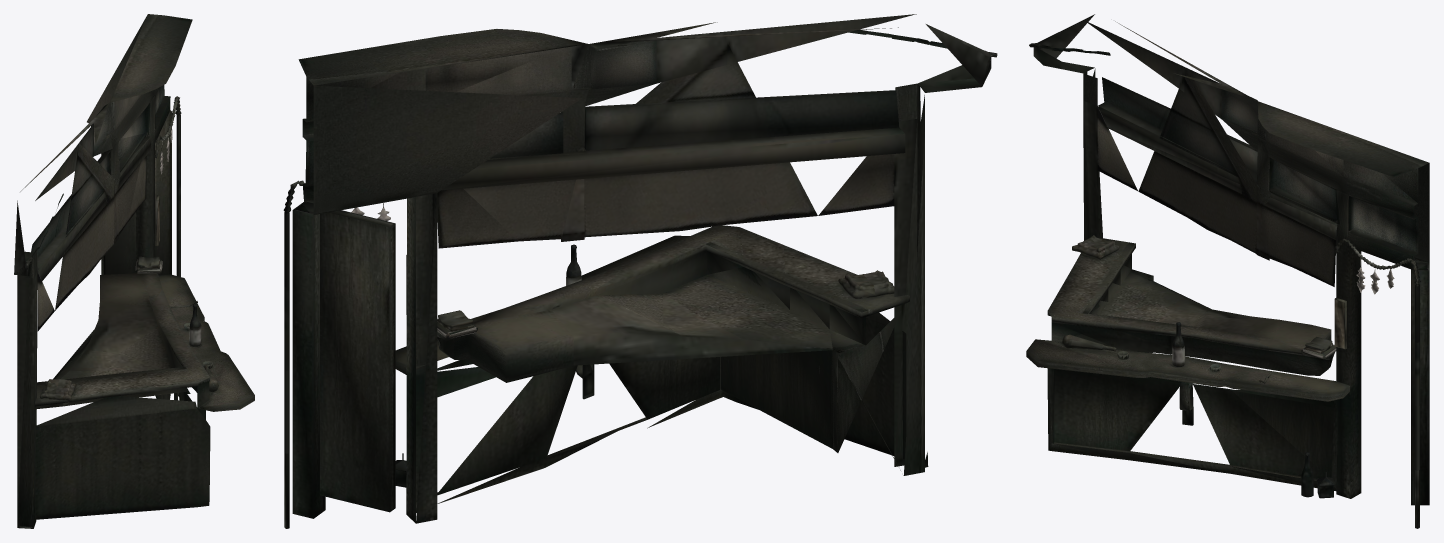
File: old-bar.glb
3 views of the same model, side by side, from view 1: azimuth 30°, elevation 25°; view 2: azimuth 150°, elevation 25°; view 3: azimuth 270°, elevation 25° (orthographic). The views are drawn at different scales.
Parts seen in each view (by area): view 1: tripo_part_5, tripo_part_20, tripo_part_43, tripo_part_25, tripo_part_22, tripo_part_11, tripo_part_32, tripo_part_26, tripo_part_44, tripo_part_38, tripo_part_33, tripo_part_39 (+7 smaller); view 2: tripo_part_22, tripo_part_25, tripo_part_5, tripo_part_26, tripo_part_20, tripo_part_32, tripo_part_33, tripo_part_34, tripo_part_40, tripo_part_39, tripo_part_38, tripo_part_42 (+10 smaller); view 3: tripo_part_25, tripo_part_22, tripo_part_20, tripo_part_5, tripo_part_11, tripo_part_32, tripo_part_62, tripo_part_33, tripo_part_26, tripo_part_34, tripo_part_39, tripo_part_42 (+11 smaller).
Boxes of the visible parts, box(x1,y1,x2,y2) form: tripo_part_5: box(35, 273, 209, 406); tripo_part_20: box(35, 386, 210, 507); tripo_part_43: box(35, 396, 196, 519); tripo_part_25: box(31, 131, 146, 331); tripo_part_22: box(87, 16, 170, 273); tripo_part_11: box(158, 274, 254, 411); tripo_part_32: box(114, 14, 192, 97); tripo_part_26: box(101, 110, 171, 274); tripo_part_44: box(17, 254, 37, 527); tripo_part_38: box(17, 282, 36, 528); tripo_part_33: box(35, 103, 114, 200); tripo_part_39: box(28, 136, 150, 281); tripo_part_22: box(302, 46, 582, 523); tripo_part_25: box(463, 43, 899, 241); tripo_part_5: box(437, 225, 909, 382); tripo_part_26: box(292, 202, 395, 518); tripo_part_20: box(437, 318, 905, 503); tripo_part_32: box(298, 29, 570, 121); tripo_part_33: box(572, 14, 916, 106); tripo_part_34: box(663, 267, 865, 349); tripo_part_40: box(776, 311, 901, 470); tripo_part_39: box(443, 127, 905, 190); tripo_part_38: box(894, 123, 924, 475); tripo_part_42: box(442, 134, 903, 190); tripo_part_25: box(1097, 68, 1336, 267); tripo_part_22: box(1265, 130, 1429, 498); tripo_part_20: box(1047, 341, 1327, 488); tripo_part_5: box(1047, 237, 1334, 375); tripo_part_11: box(1026, 322, 1350, 401); tripo_part_32: box(1258, 105, 1428, 203); tripo_part_62: box(1232, 390, 1333, 477); tripo_part_33: box(1084, 20, 1265, 151); tripo_part_26: box(1411, 258, 1429, 505); tripo_part_34: box(1092, 265, 1180, 321); tripo_part_39: box(1098, 106, 1333, 224); tripo_part_42: box(1106, 127, 1337, 239).
Bounding box in the file's own units: 1 × 0.9392 × 0.9745.
1 material, 1 textured.
